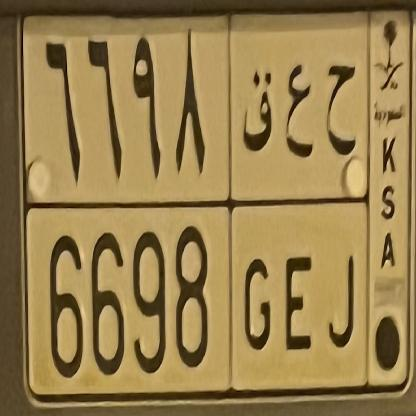english: (20, 200, 375, 393)
